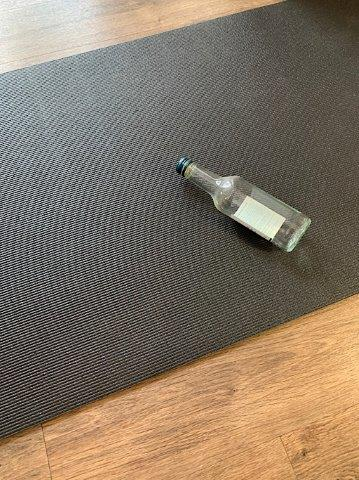botolkaca: (177, 157, 312, 251)
